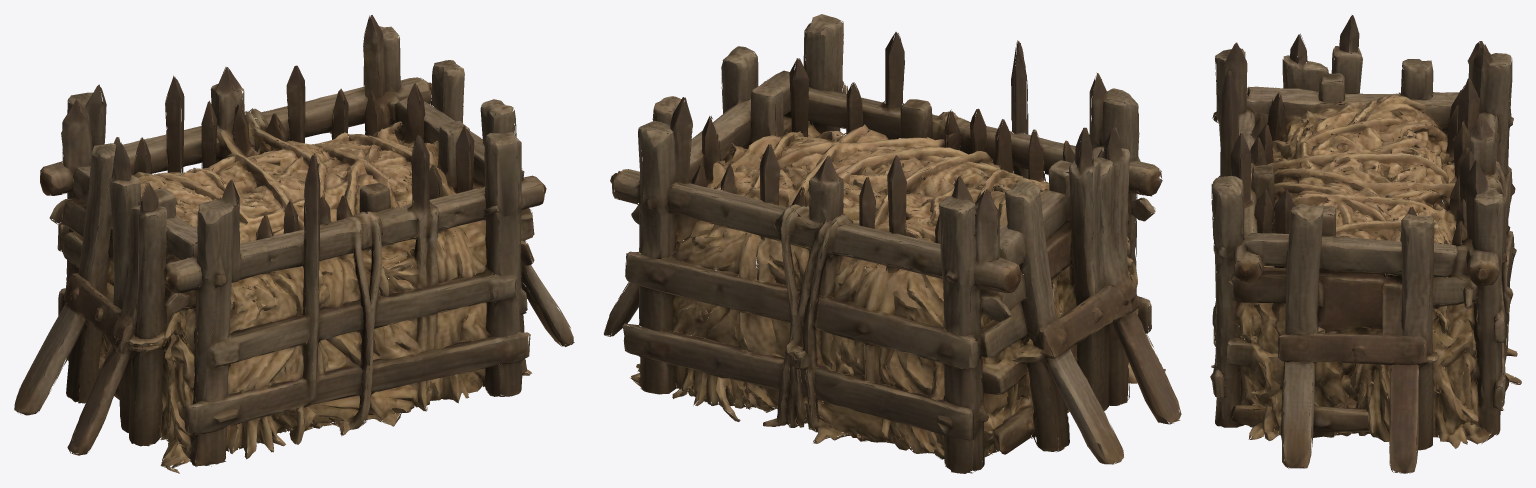
File: cf_crop_palisade.glb
The picture shows the model from 3 angles, left to right: view 1: azimuth 30°, elevation 25°; view 2: azimuth 150°, elevation 25°; view 3: azimuth 270°, elevation 25°; orthographic projection. The views are drawn at different scales.
Parts seen in each view (by area): view 1: base; view 2: base; view 3: base.
Part boxes in pixels (x1=…): base: x1=14, y1=15, x2=574, y2=473; base: x1=604, y1=14, x2=1181, y2=473; base: x1=1210, y1=15, x2=1521, y2=473.
Size of the model in its own units: 2.57 by 1.4 by 1.47.
1 material, 1 textured.
